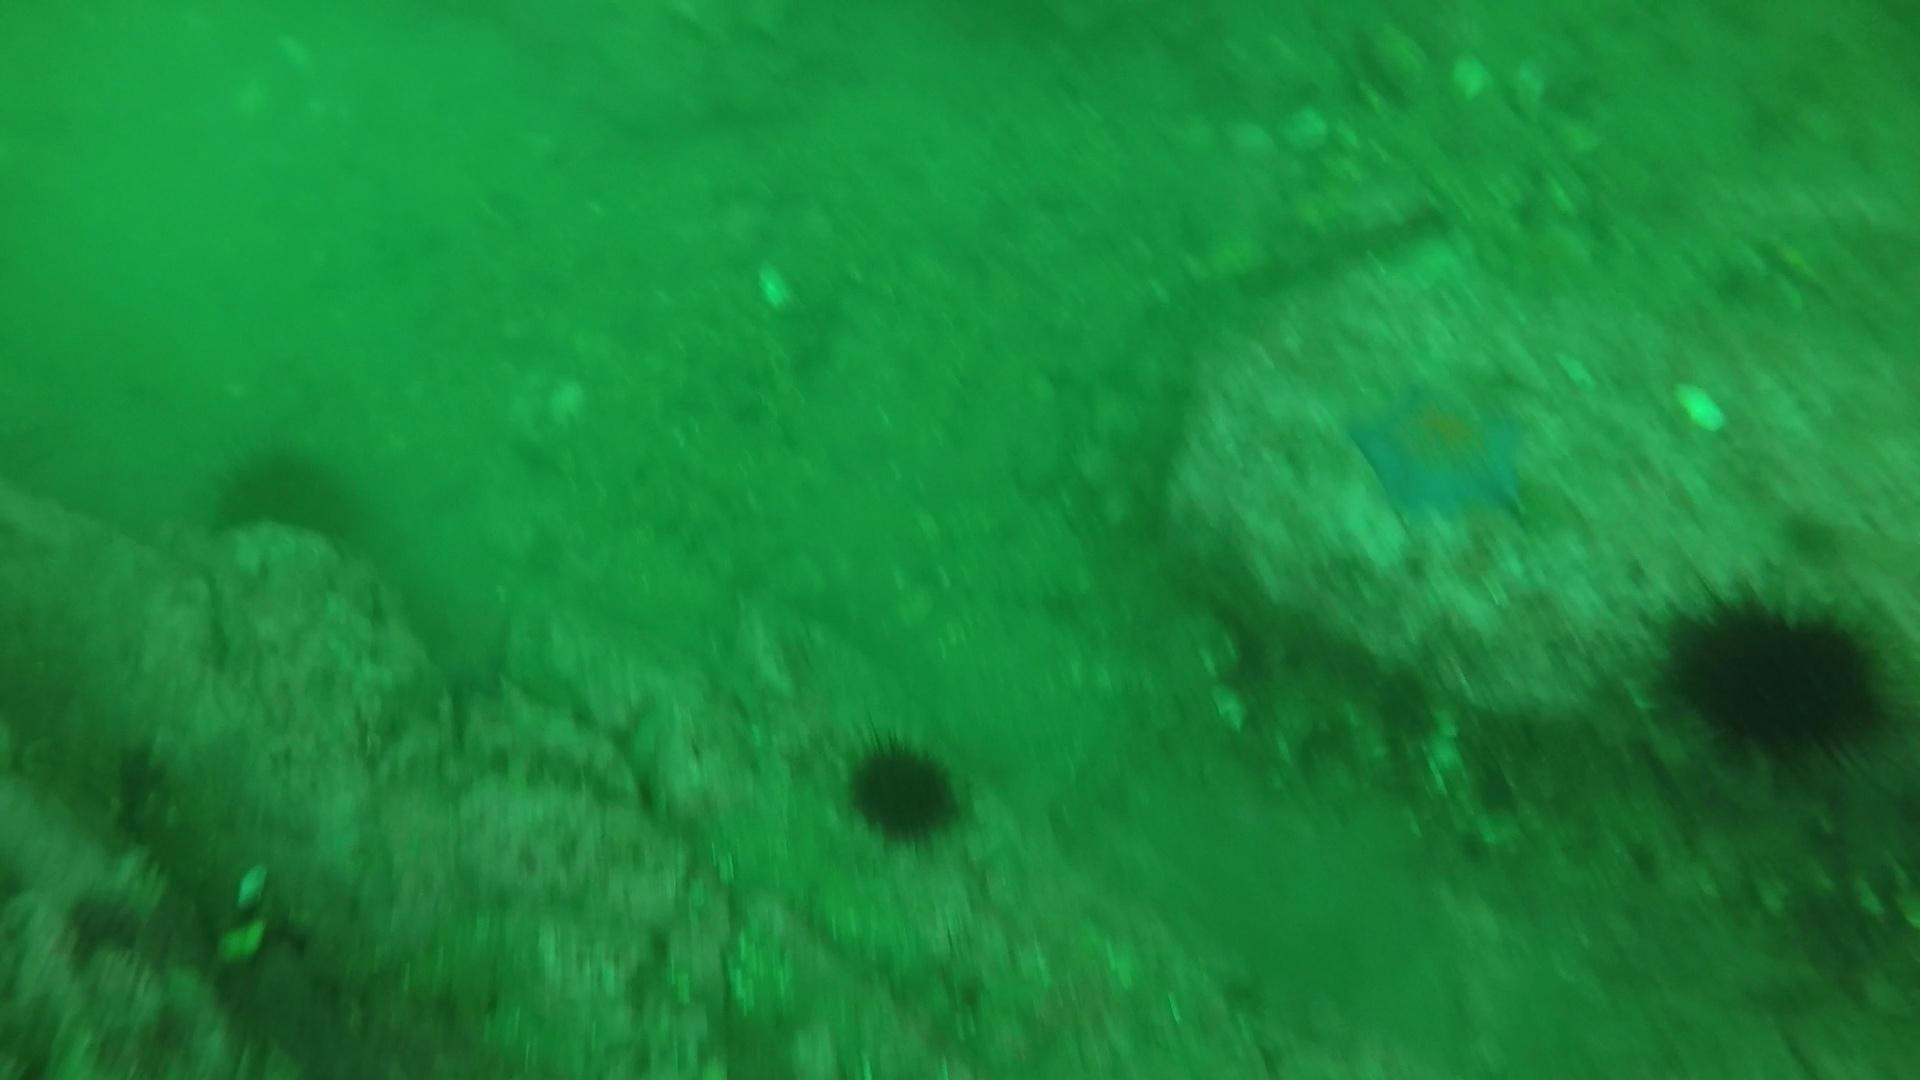echinus: (1654, 576, 1898, 775), (204, 438, 371, 553), (837, 725, 971, 851)
starfish: (1342, 369, 1536, 531)
